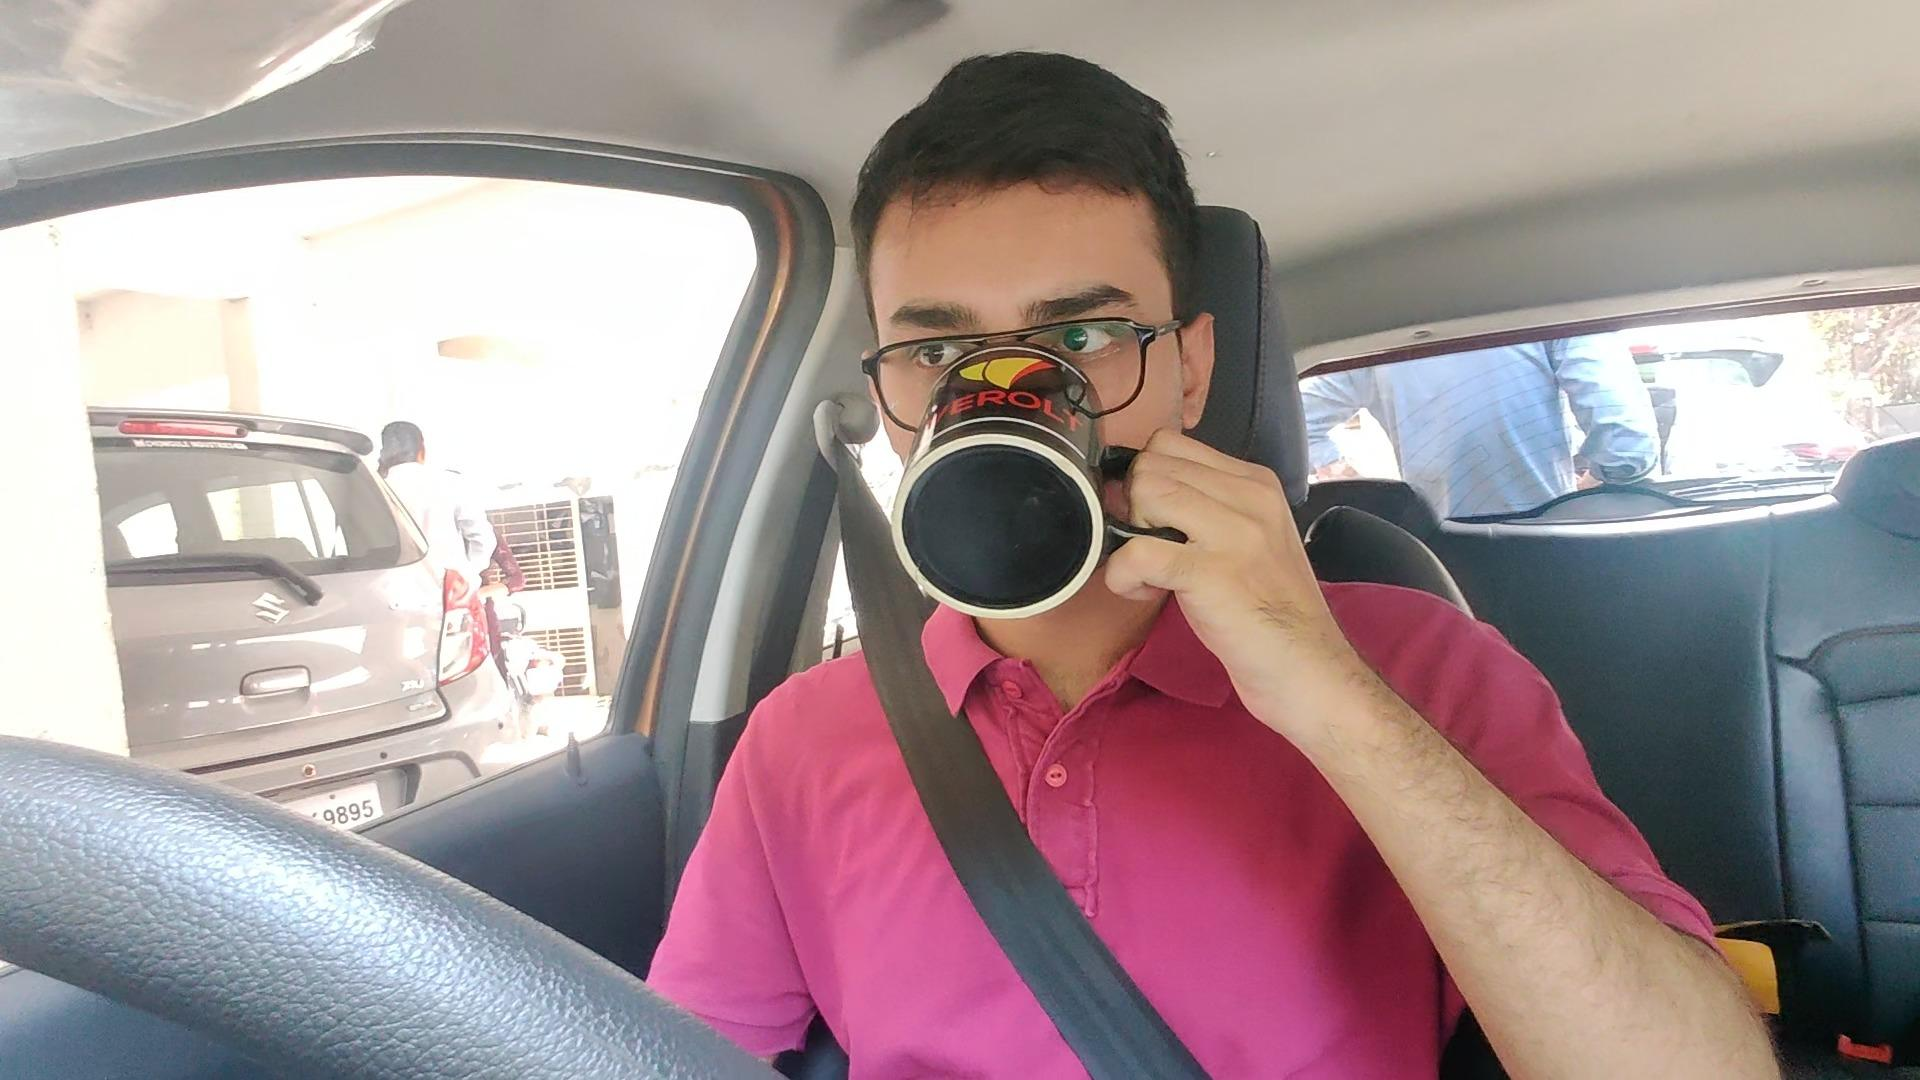Drinking: (868, 183, 1290, 699)
